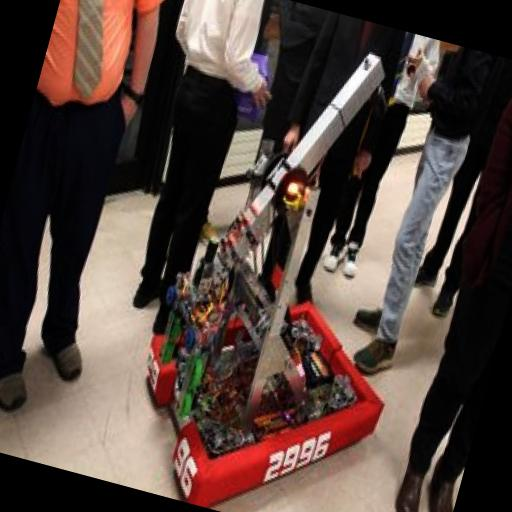robot: (100, 16, 482, 512)
